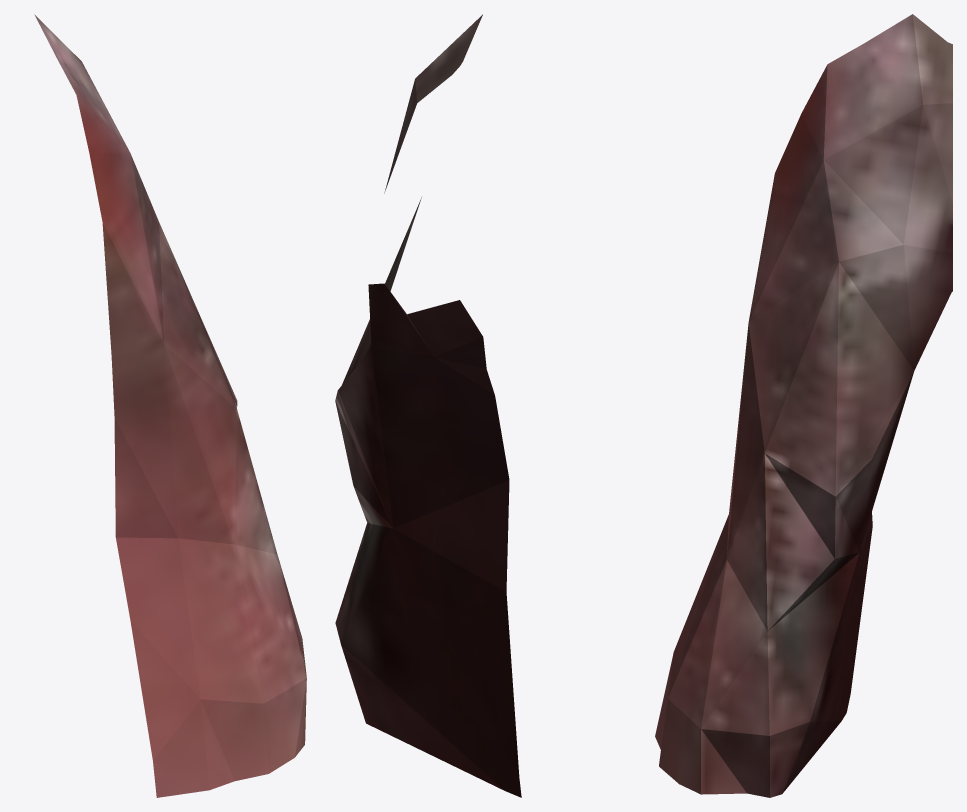
3 renders of one model, left to right at view 1: azimuth 30°, elevation 25°; view 2: azimuth 150°, elevation 25°; view 3: azimuth 270°, elevation 25°, orthographic. The views are drawn at different scales.
Bounding box in the file's own units: 0.0742 × 0.2495 × 0.0964.
Materials: 1 (1 with a texture image).
